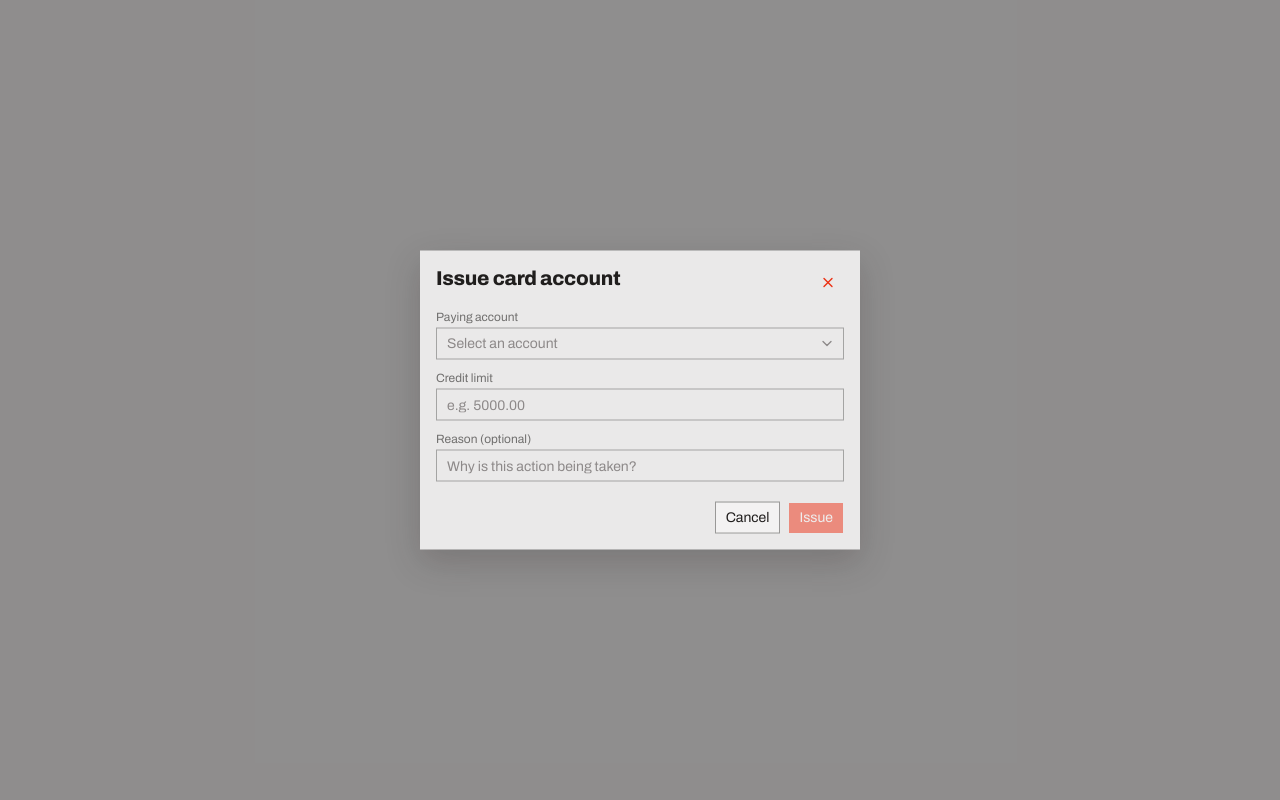
IssueCardAccountDialog › surfaces a 422 validation failure inline
Expected: the text "Select an account" is shown, [447, 334, 558, 354]
Click the dropdown named "paying account".
click(502, 343)  # box [436, 328, 844, 360]
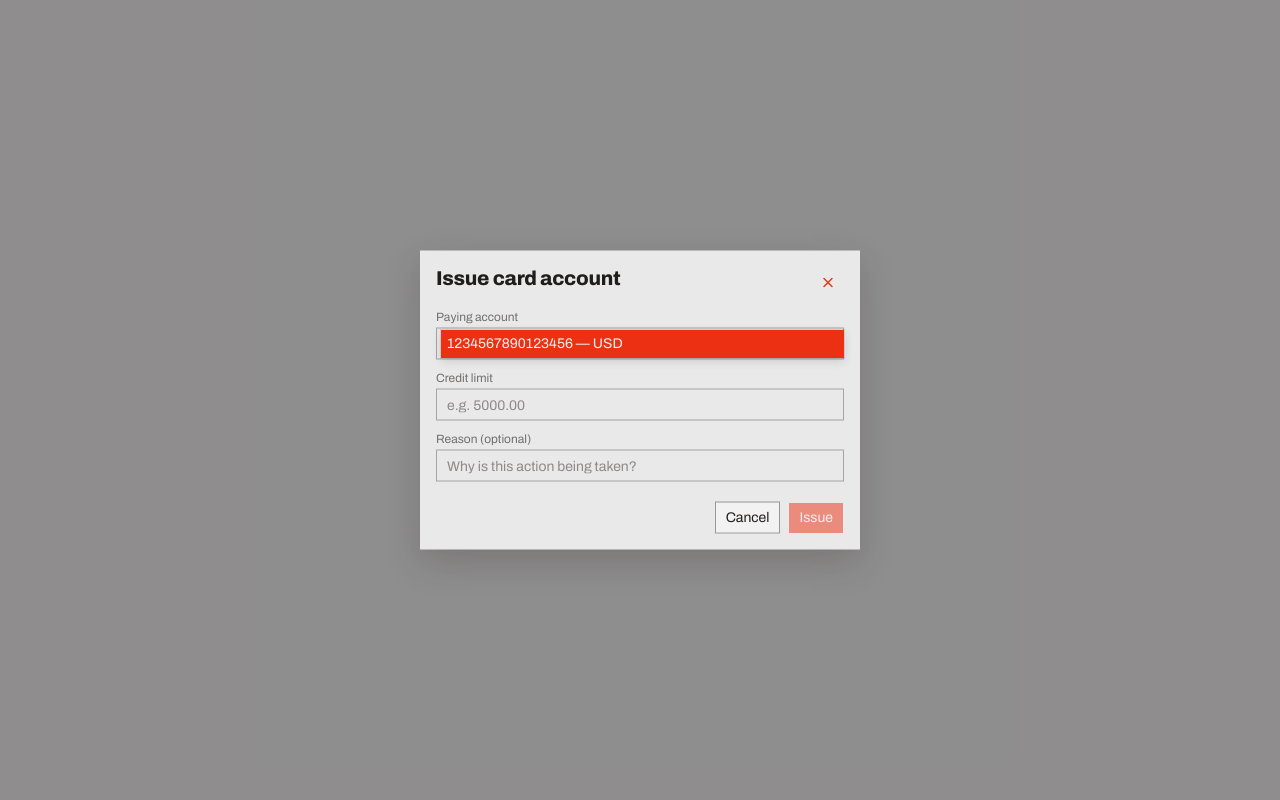
Click the option "1234567890123456 — USD".
click(535, 343)  # box [441, 330, 844, 358]
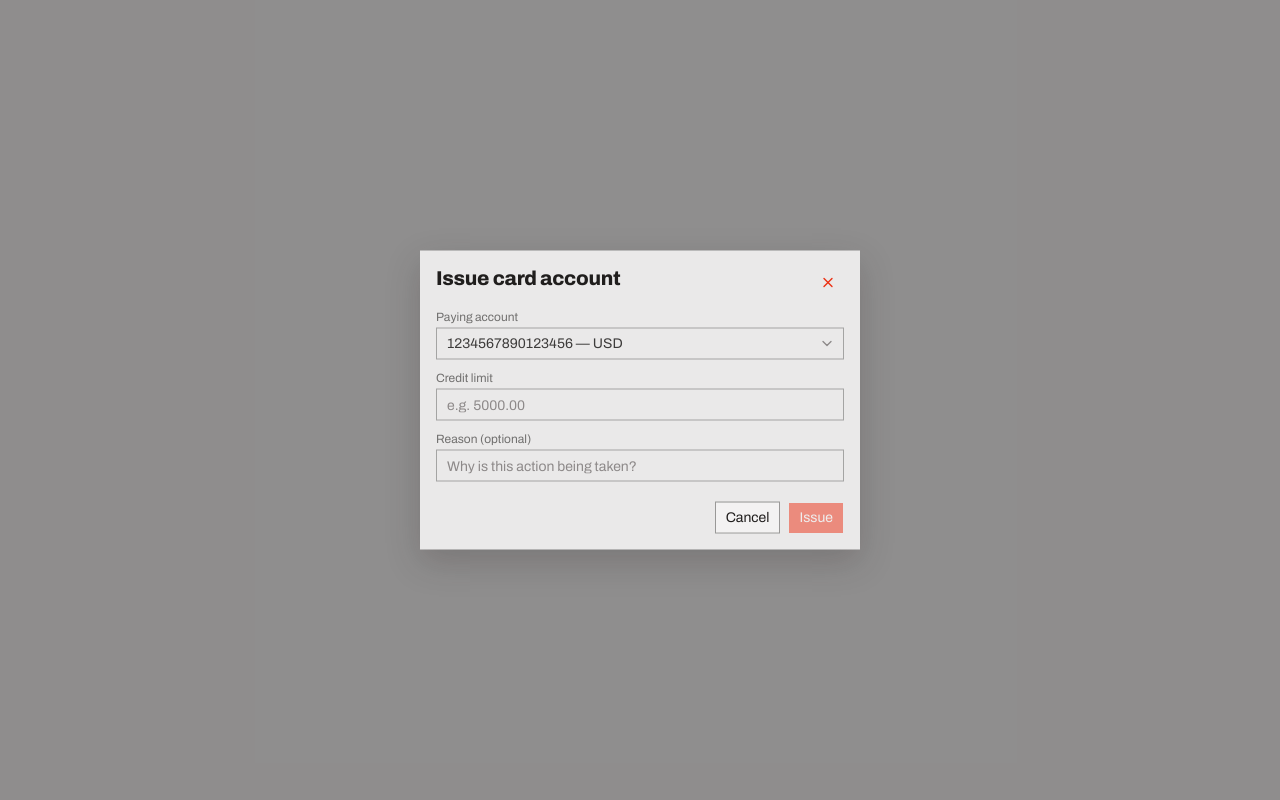
Type "1000.00" into the field labelled "Credit limit".
click(640, 404); type("1000.00")  # box [436, 388, 844, 420]
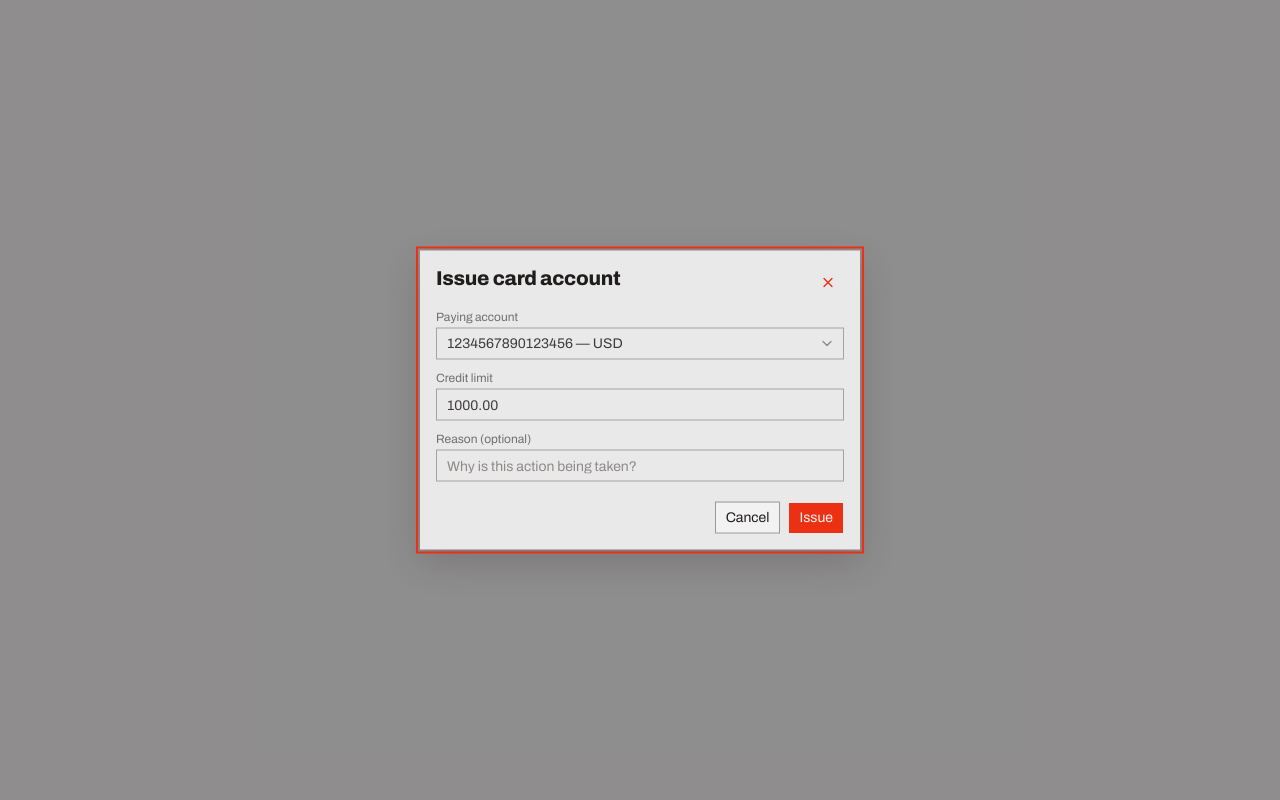
Click the button "Issue".
click(816, 518)  # box [788, 502, 844, 534]
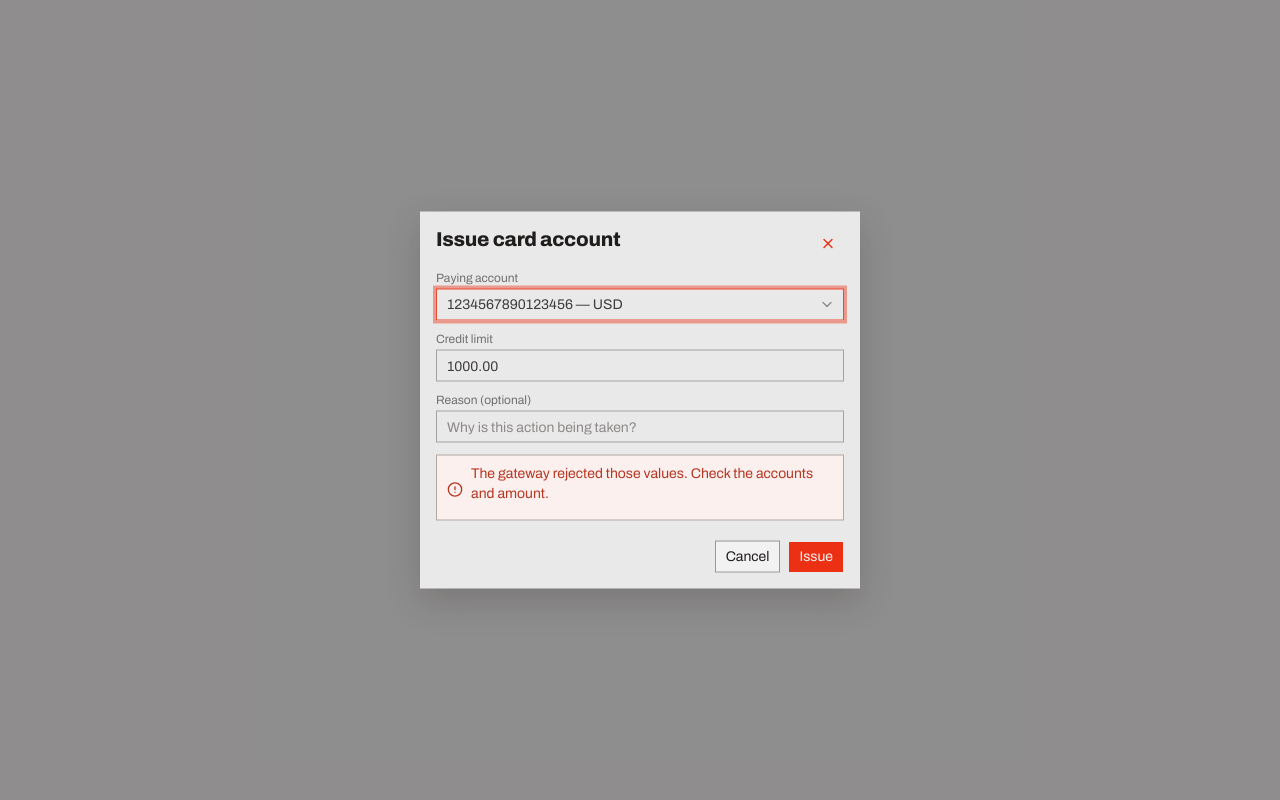
Expected: the text "The gateway rejected those values. Check the accounts and amount." is shown, [471, 464, 833, 504]
